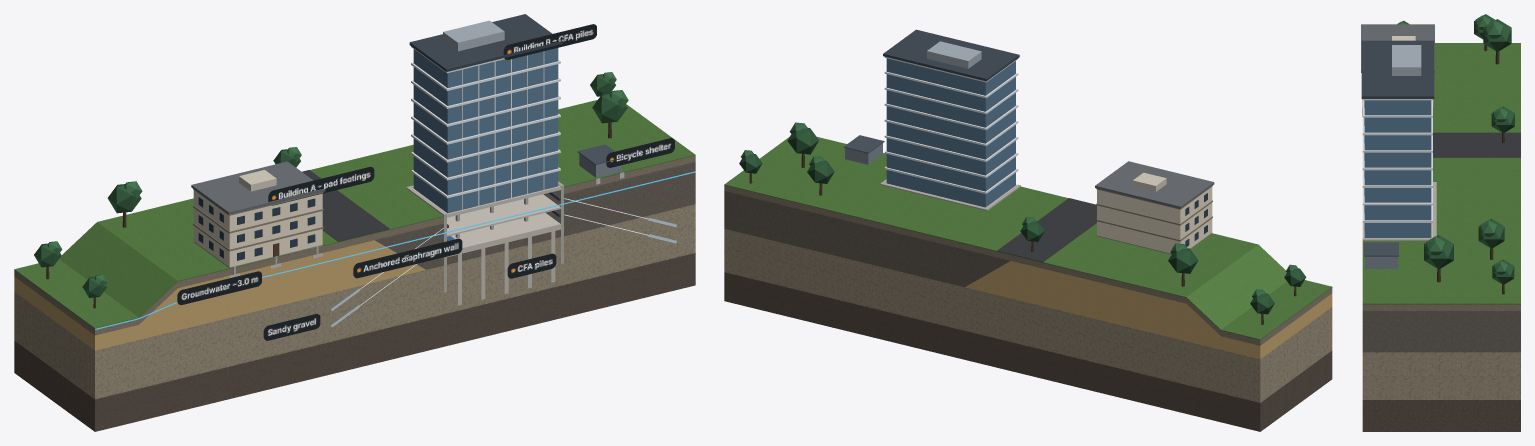
The model's file is egy-telek-feliratok-en.glb.
3 views of the same model, side by side, from view 1: azimuth 30°, elevation 25°; view 2: azimuth 150°, elevation 25°; view 3: azimuth 270°, elevation 25° (orthographic). The views are drawn at different scales.
Parts seen in each view (by area): view 1: Egy_telek, Felirat (×7); view 2: Egy_telek; view 3: Egy_telek.
Boxes of the visible parts, x1=… form: Egy_telek: x1=14, y1=14, x2=695, y2=431; Felirat (×7): x1=177, y1=24, x2=674, y2=340; Egy_telek: x1=724, y1=29, x2=1332, y2=431; Egy_telek: x1=1361, y1=14, x2=1520, y2=431.
Size of the model in its own units: 0.7733 by 0.3527 by 0.182.
Materials: 60 (14 with a texture image).
